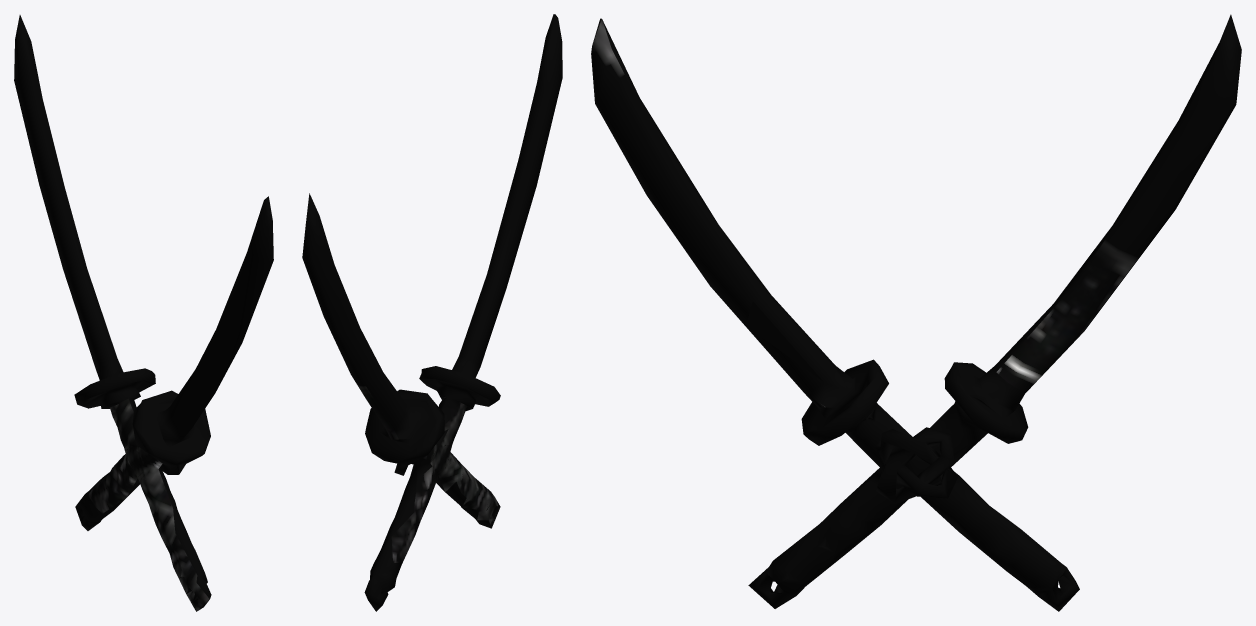
File: Wings1.fbx
The picture shows the model from 3 angles, left to right: view 1: azimuth 30°, elevation 25°; view 2: azimuth 150°, elevation 25°; view 3: azimuth 270°, elevation 25°; orthographic projection. The views are drawn at different scales.
Parts seen in each view (by area): view 1: tripo_node_9f37003d-00e4-46ad-b435-aad72360b564.007; view 2: tripo_node_9f37003d-00e4-46ad-b435-aad72360b564.007; view 3: tripo_node_9f37003d-00e4-46ad-b435-aad72360b564.007.
Boxes of the visible parts, x1,y1,x2,y2 form: tripo_node_9f37003d-00e4-46ad-b435-aad72360b564.007: (14,15,273,611); tripo_node_9f37003d-00e4-46ad-b435-aad72360b564.007: (302,14,562,611); tripo_node_9f37003d-00e4-46ad-b435-aad72360b564.007: (591,14,1241,611).
Bounding box in the file's own units: 15.94 × 99.25 × 97.96.
